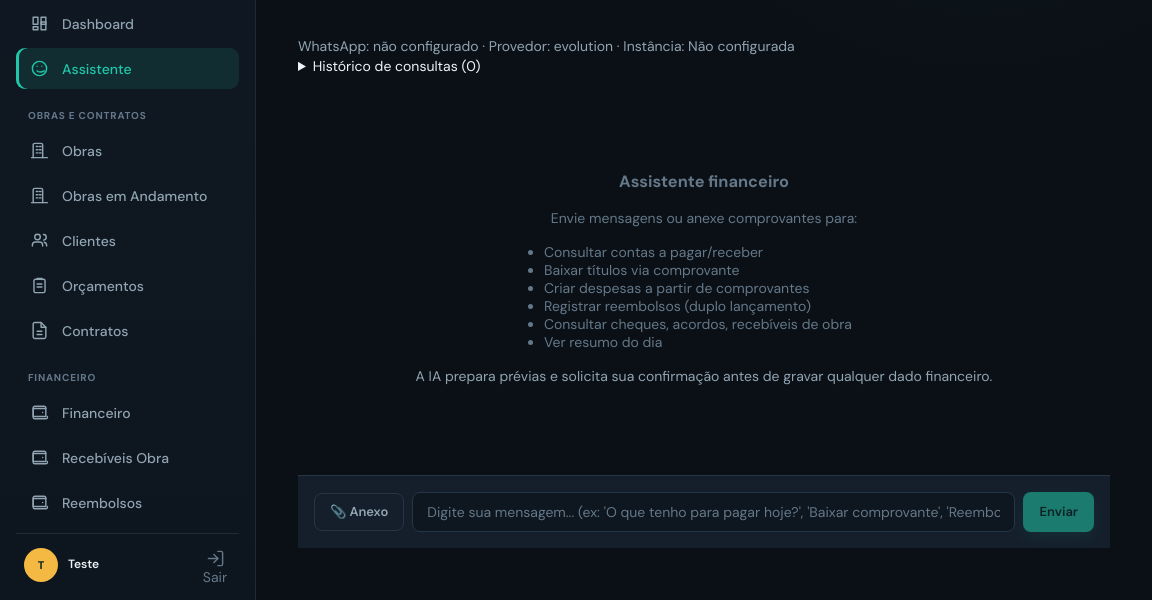
Test: Navegação e Assistente integrado › mostra falhas de lançamentos sem informar que todas as prévias tiveram sucesso
(page scrolled)
Replace the text in the field with placeholder "Digite sua mensagem" with "Criar despesa" at (714, 512), box [412,492,1016,532]
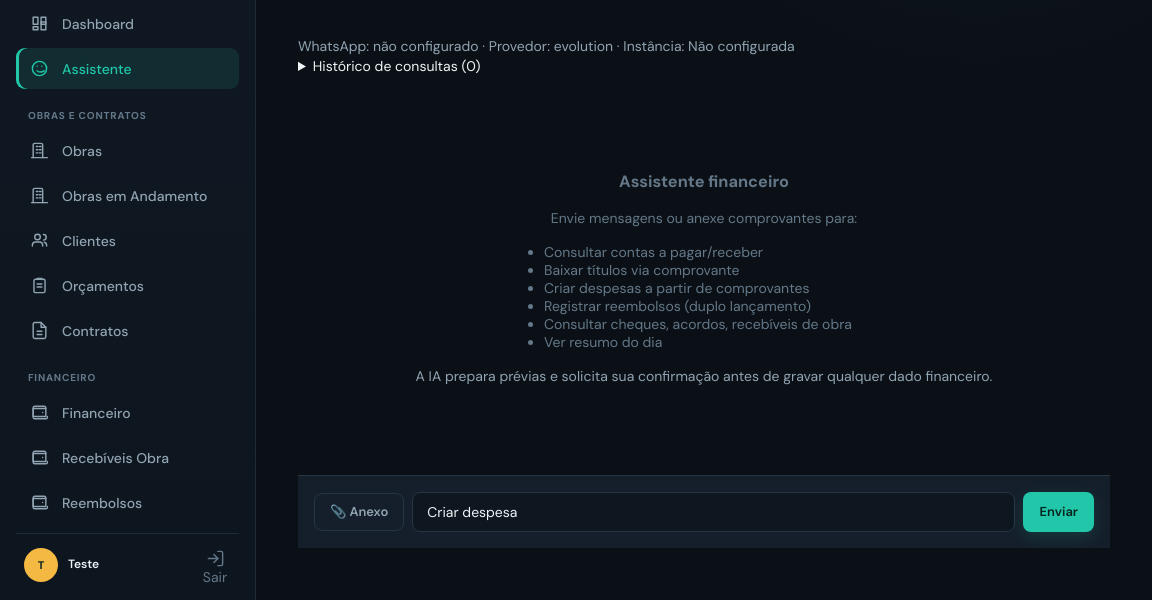
Click the button "Enviar" at (1059, 512), box [1024,492,1094,532]
(page scrolled)
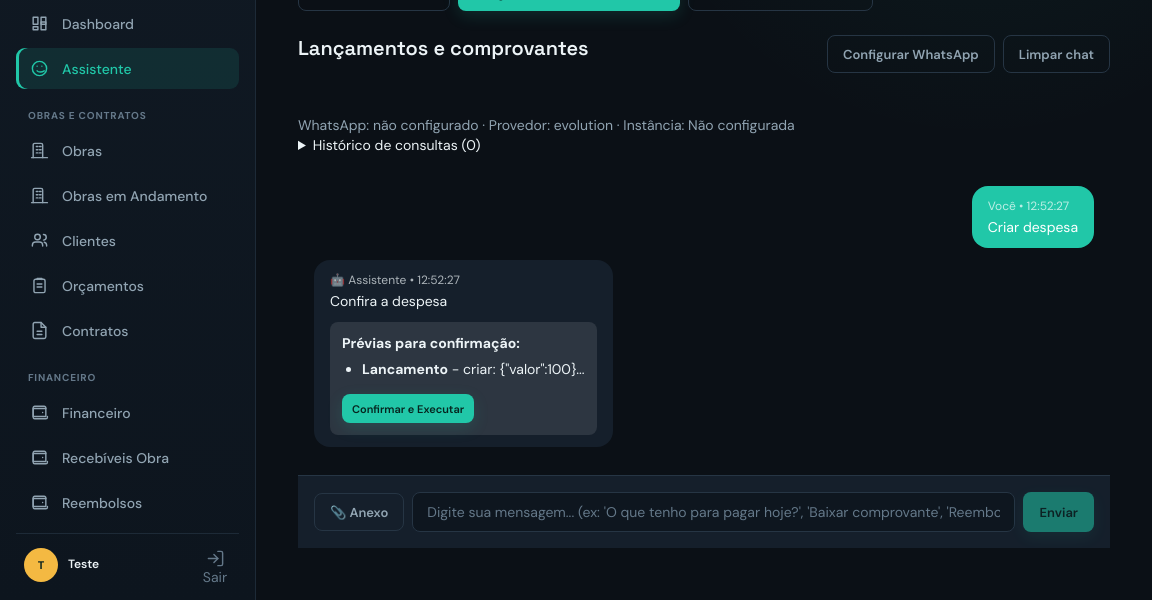
Click the button "Confirmar e Executar" at (408, 408), box [342,394,474,423]
(page scrolled)
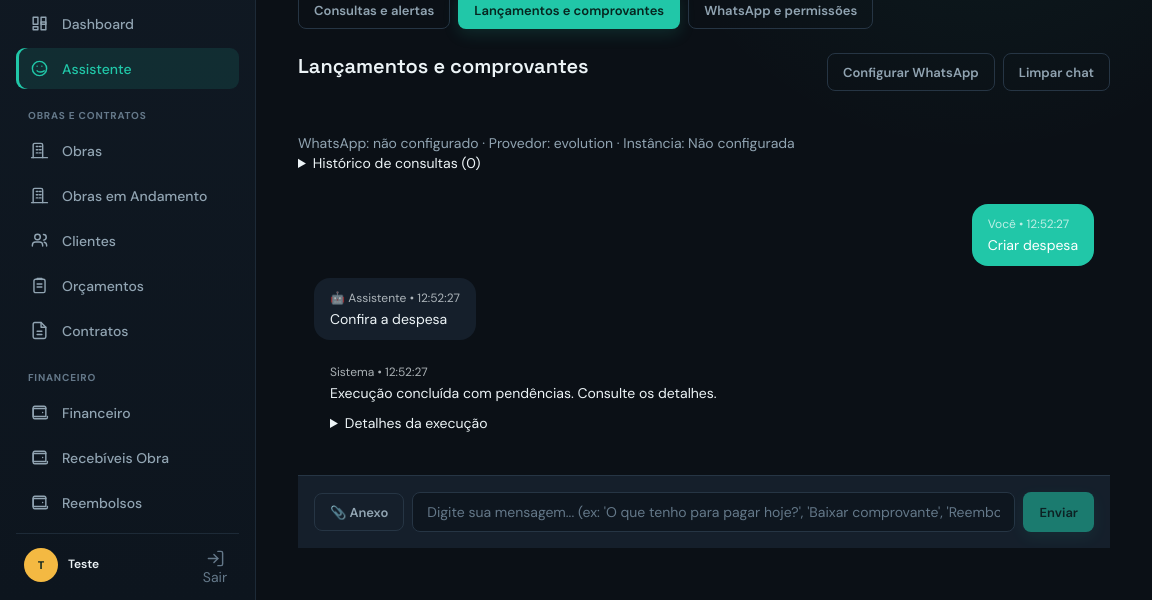
Expected: the text "Execução concluída com pendências. Consulte os detalhes." is shown, [330,384,717,402]
Expected: the button "Confirmar e Executar" is gone
